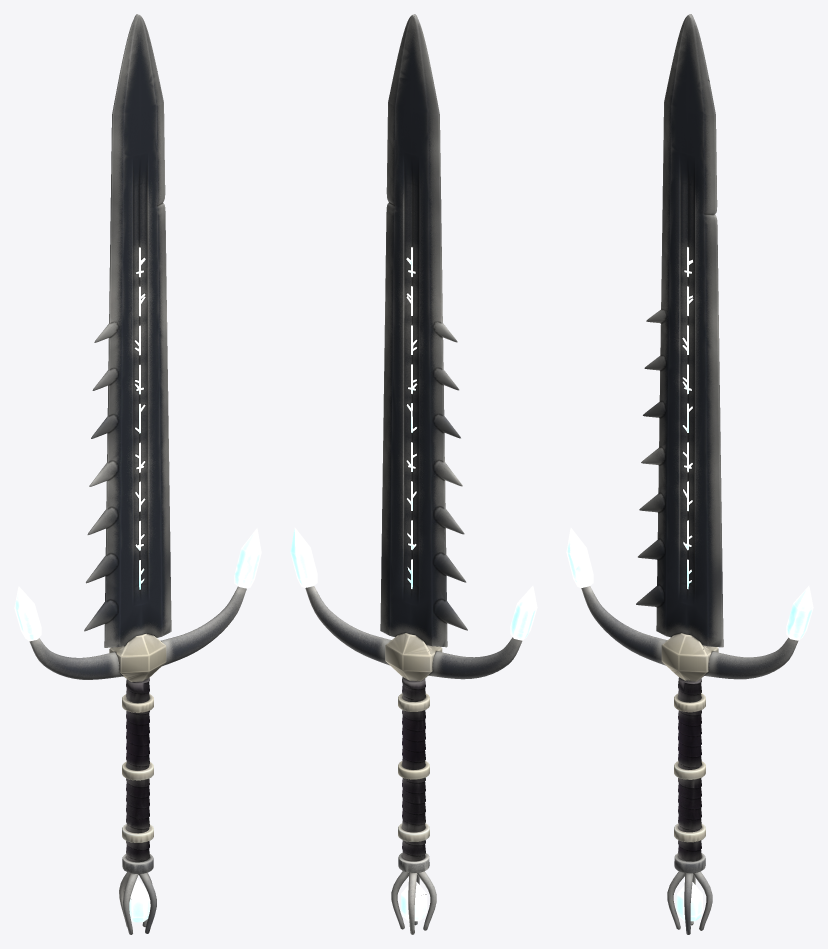
The model's file is weapon_runeblade.gltf.
The picture shows the model from 3 angles, left to right: view 1: azimuth 30°, elevation 25°; view 2: azimuth 150°, elevation 25°; view 3: azimuth 330°, elevation 25°; orthographic projection.
Visible parts, largest first — view 1: weapon_runeblade; view 2: weapon_runeblade; view 3: weapon_runeblade.
Part boxes in pixels (x1,y1,x2,y2): weapon_runeblade: (14,14,261,934); weapon_runeblade: (290,14,537,934); weapon_runeblade: (566,14,813,934).
Bounding box in the file's own units: 0.4867 × 1.76 × 0.0787.
1 material, 1 textured.
